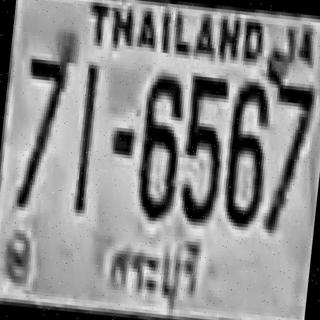N01: (71, 63, 100, 212)
N05: (177, 72, 230, 224)
N06: (220, 76, 272, 225), (132, 71, 184, 219)
N07: (13, 44, 76, 209), (261, 81, 313, 232), (267, 81, 312, 180)
P60: (94, 225, 208, 318)
